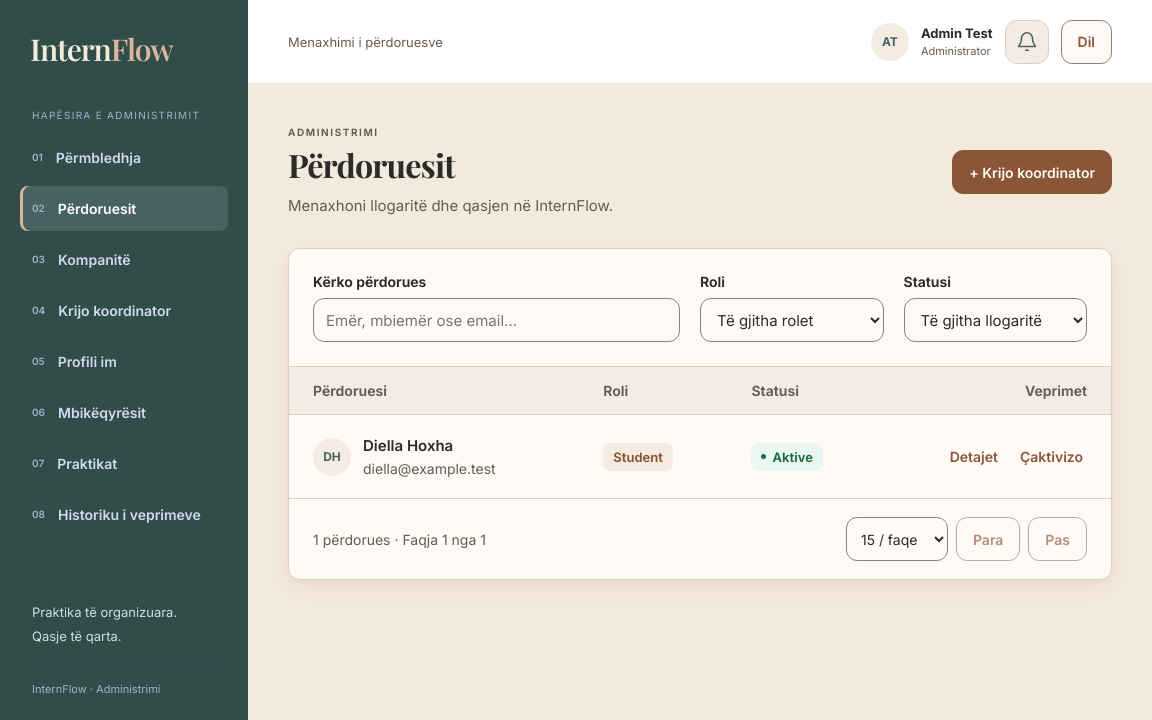
Test: Admin area › confirms activation before changing state, prevents duplicate submission and refreshes on success
Click the button "Çaktivizo" at (1052, 457), box [1016, 444, 1087, 469]
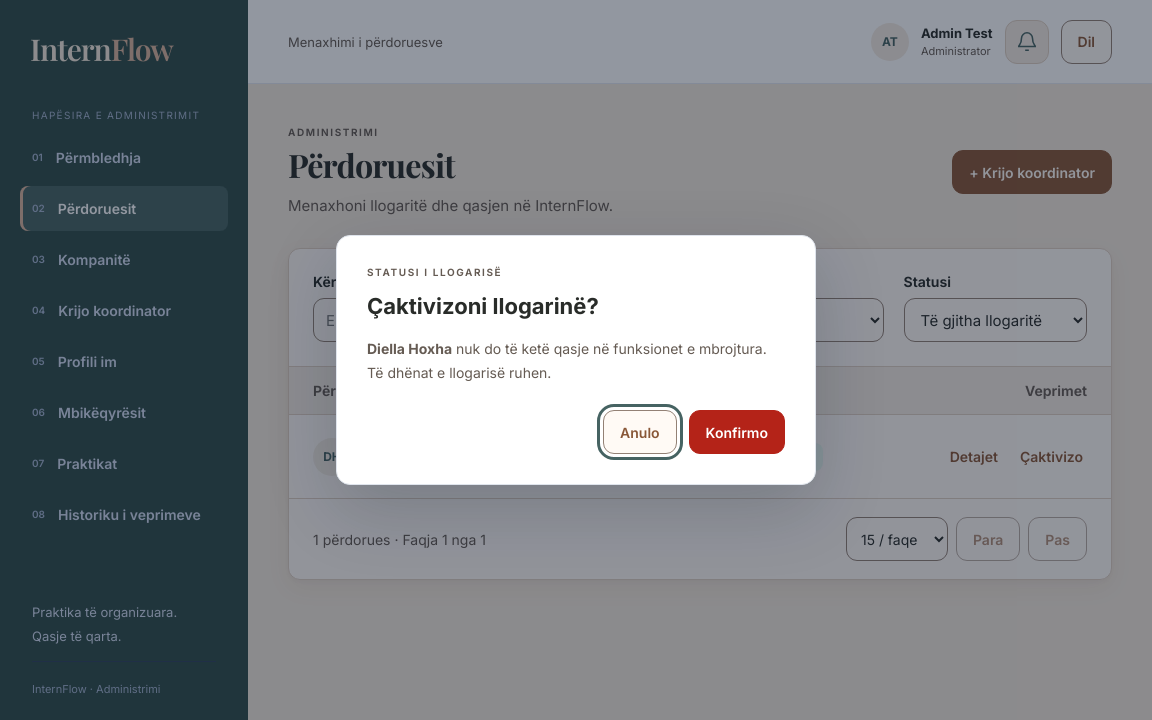
Click the button "Konfirmo" at (737, 432), box [689, 410, 785, 454]
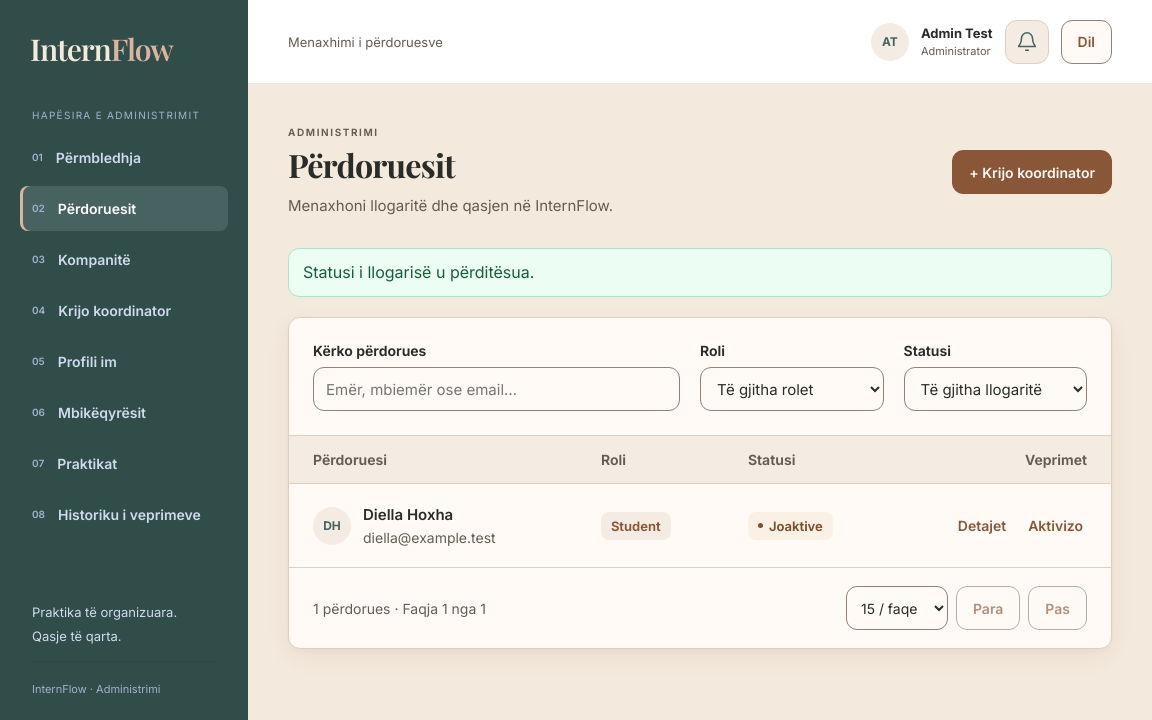
Expected: the button "Aktivizo" is shown, [1024, 513, 1087, 538]
Now the text "Statusi i llogarisë u përditësua." is shown, box [288, 248, 1112, 297]
